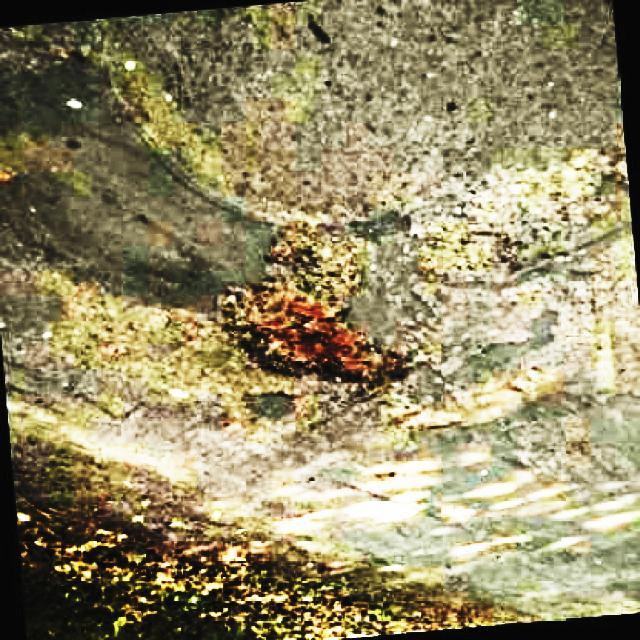pothole: (217, 208, 409, 394), (411, 142, 614, 286), (32, 269, 214, 394), (385, 356, 566, 438)
